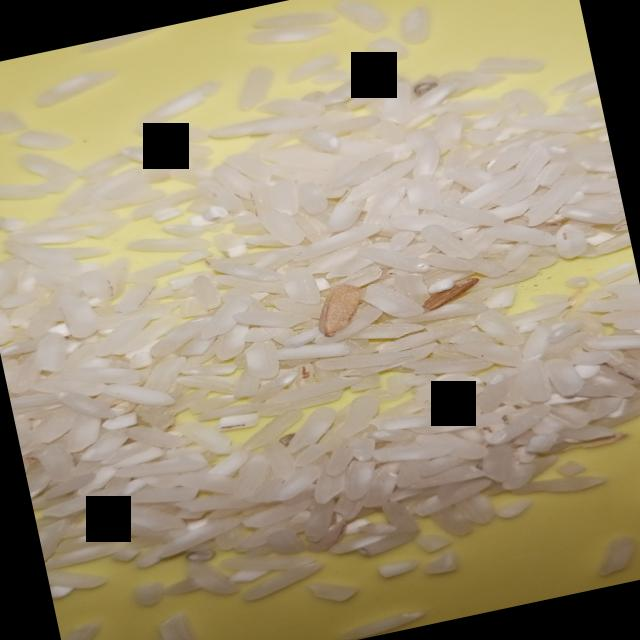Bulir_padi: (305, 272, 382, 343), (412, 270, 487, 316)
Kerikil: (399, 72, 446, 102)
